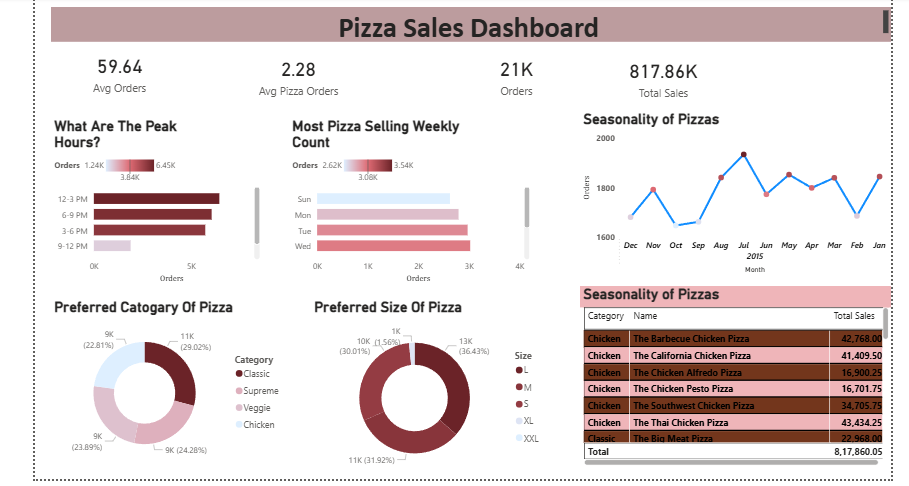

This screenshot's page, from the dashboard's own definition file:
{"tool":"powerbi","page":{"name":"Page 1","canvas":[1280,720],"ordinal":0},"visuals":[{"type":"barChart","title":"What Are The Peak Hours?","fields":{"Category":["Orders.Time Slot"],"Y":["All Measures.Orders","select"]},"box":[23.9,180.7,316.7,251],"z":0},{"type":"textbox","box":[23.9,14.9,1256.3,52.3],"z":1000},{"type":"barChart","title":"Most Pizza Selling Weekly Count","fields":{"Y":["All Measures.Orders","select"],"Category":["Date Table.Day"]},"box":[379.4,180.7,364.5,251],"z":2000},{"type":"lineChart","title":"Seasonality of Pizzas","fields":{"Y":["select","All Measures.Orders"],"Category":["Date Table.Year","Date Table.Month"]},"box":[814.1,170.3,466.1,248],"z":3000},{"type":"donutChart","title":"Preferred Catogary Of Pizza","fields":{"Y":["All Measures.Orders","select"],"Category":["Pizza Types.Category"]},"box":[23.9,451.1,355.5,253.9],"z":4000},{"type":"donutChart","title":"Preferred Size Of Pizza","fields":{"Y":["All Measures.Orders","select"],"Category":["Pizzas.Size"]},"box":[412.3,451.1,355.5,268.9],"z":5000},{"type":"card","fields":{"Values":["All Measures.Avg Orders"]},"box":[23.9,74.7,204.6,74.7],"z":6000},{"type":"card","fields":{"Values":["All Measures.Avg Pizza Orders"]},"box":[306.2,74.7,174.8,82.2],"z":7000},{"type":"card","fields":{"Values":["All Measures.Orders"]},"box":[651.3,74.7,135.9,82.2],"z":8000},{"type":"card","fields":{"Values":["All Measures.Total Sales"]},"box":[867.9,80.7,141.9,76.2],"z":9000},{"type":"tableEx","title":"Seasonality of Pizzas","fields":{"Values":["select","Pizza Types.Category","Pizza Types.Name","All Measures.Total Sales"]},"box":[814.1,431.7,466.1,273.4],"z":10000}]}

Visuals, with their boxes on the page's 1280x720 design canvas (x1, y1, x2, y2). These are canvas units, not pixel positions in the 909x486 screenshot, which may show the page scaled, cropped or inside an application window:
"What Are The Peak Hours?" barChart: detection(24, 181, 341, 432)
textbox: detection(24, 15, 1280, 67)
"Most Pizza Selling Weekly Count" barChart: detection(379, 181, 744, 432)
"Seasonality of Pizzas" lineChart: detection(814, 170, 1280, 418)
"Preferred Catogary Of Pizza" donutChart: detection(24, 451, 379, 705)
"Preferred Size Of Pizza" donutChart: detection(412, 451, 768, 720)
card - All Measures.Avg Orders: detection(24, 75, 228, 149)
card - All Measures.Avg Pizza Orders: detection(306, 75, 481, 157)
card - All Measures.Orders: detection(651, 75, 787, 157)
card - All Measures.Total Sales: detection(868, 81, 1010, 157)
"Seasonality of Pizzas" tableEx: detection(814, 432, 1280, 705)
